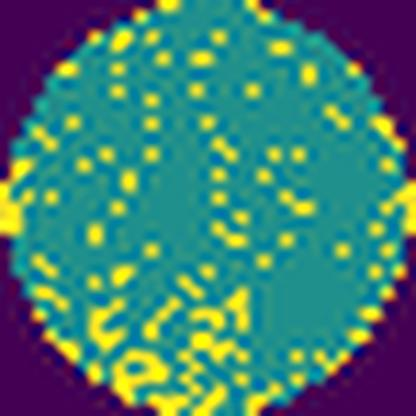Edge-Loc: (0, 151, 42, 242), (377, 177, 416, 234)
